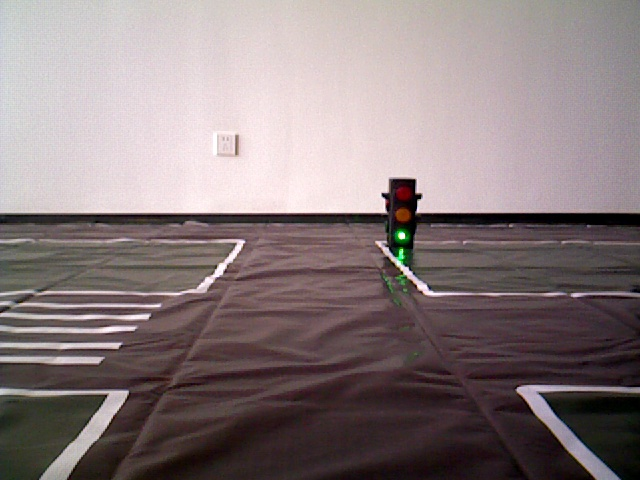green: (388, 182, 412, 243)
